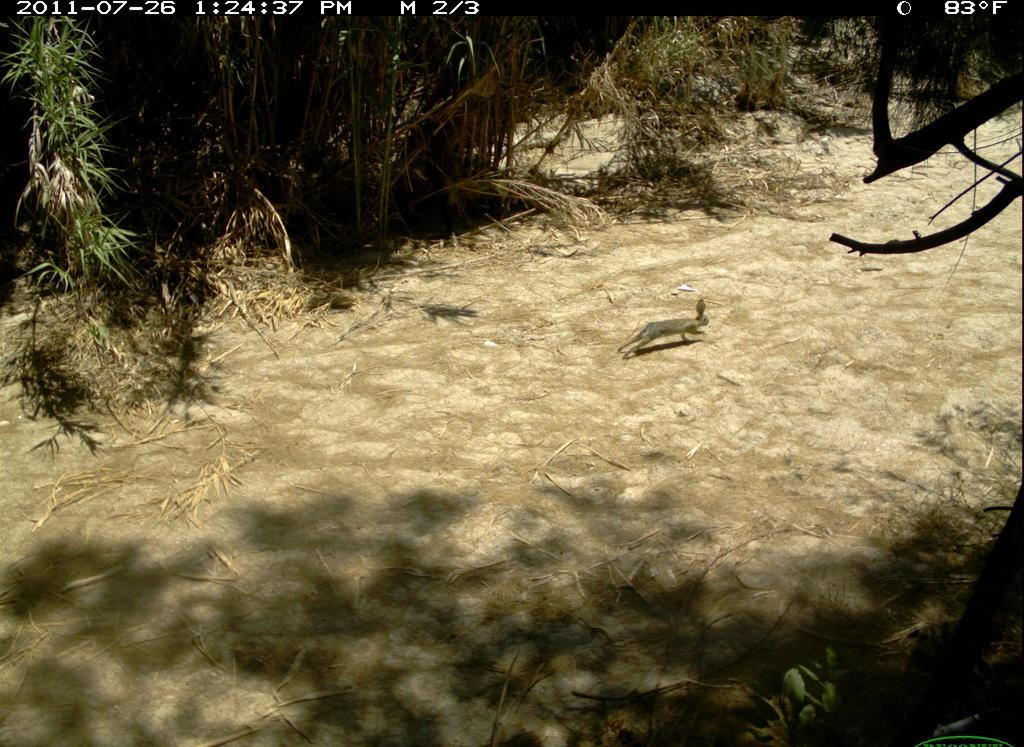rabbit: (619, 298, 714, 361)
